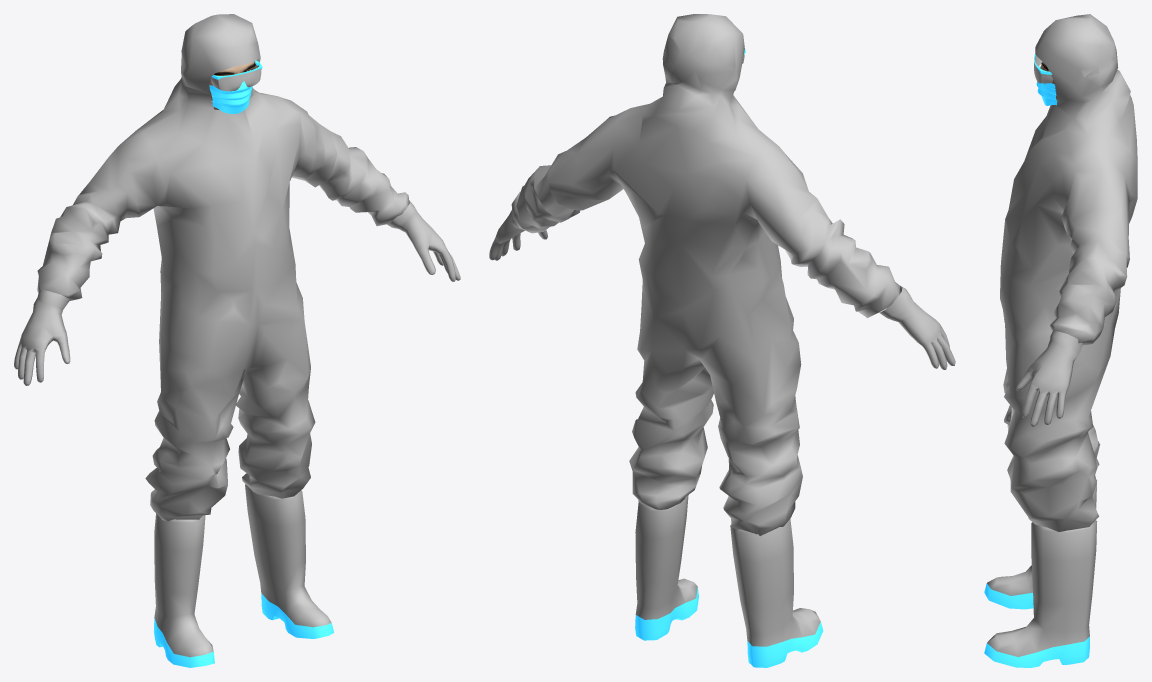
Rendered from 01_Base_FSE.fbx.
The picture shows the model from 3 angles, left to right: view 1: azimuth 30°, elevation 25°; view 2: azimuth 150°, elevation 25°; view 3: azimuth 270°, elevation 25°; orthographic projection. The views are drawn at different scales.
Parts seen in each view (by area): view 1: Bunny_Suit, Boots, Gloves, Mask, Glasses; view 2: Bunny_Suit, Boots, Gloves; view 3: Bunny_Suit, Boots, Gloves, Mask, Glasses.
Boxes of the visible parts, x1,y1,x2,y2 form: Bunny_Suit: (37, 14, 409, 521); Boots: (154, 484, 333, 667); Gloves: (14, 200, 460, 385); Mask: (209, 81, 252, 113); Glasses: (210, 60, 262, 91); Bunny_Suit: (511, 14, 899, 535); Boots: (635, 495, 823, 667); Gloves: (489, 210, 955, 369); Bunny_Suit: (1000, 14, 1137, 531); Boots: (984, 480, 1097, 667); Gloves: (1016, 330, 1082, 426); Mask: (1036, 66, 1057, 105); Glasses: (1034, 54, 1053, 83).
Bounding box in the file's own units: 151 × 200 × 45.63.
